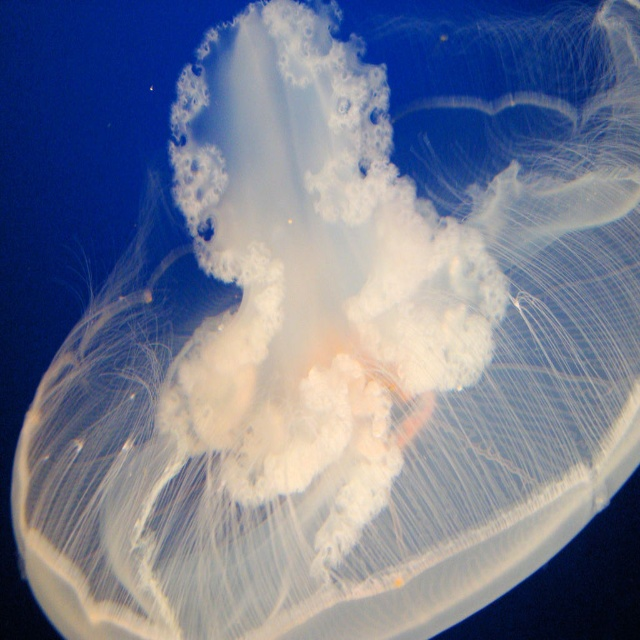Jellyfish: (8, 0, 638, 639)
